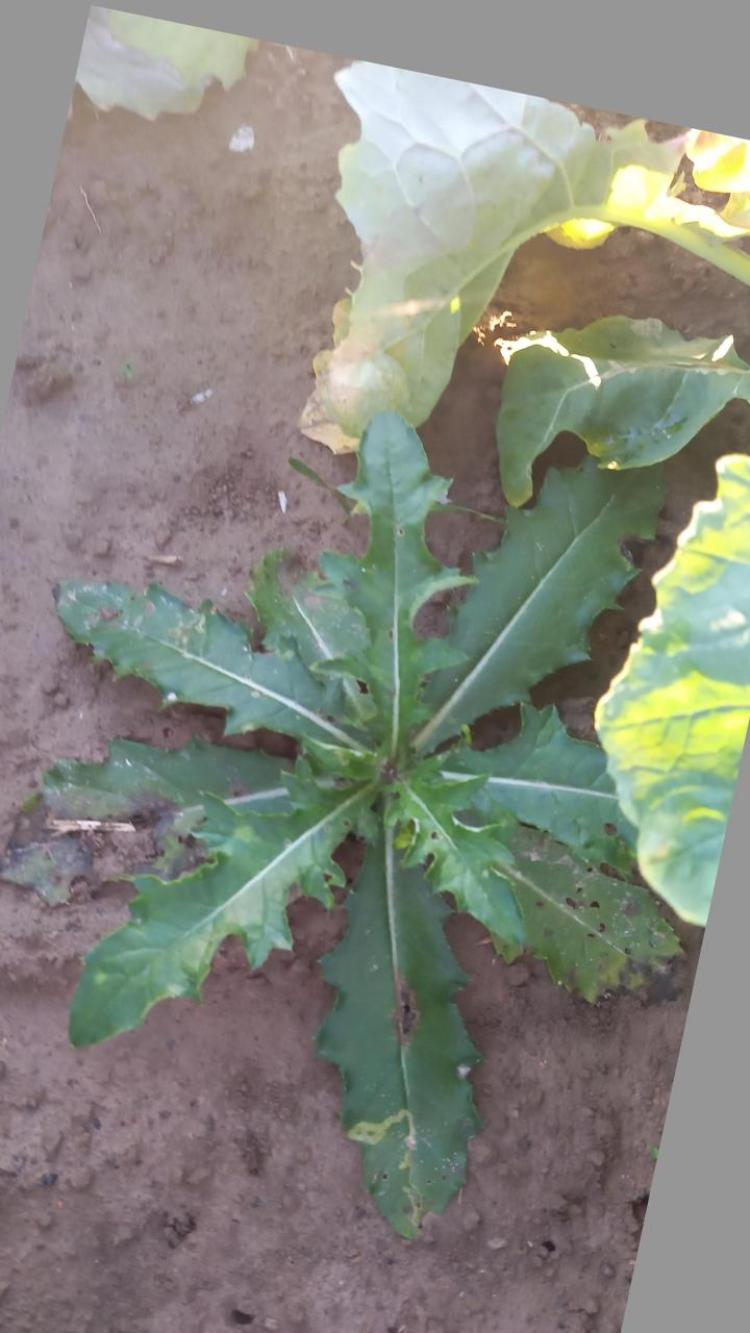bodyak: (33, 413, 684, 1235)
